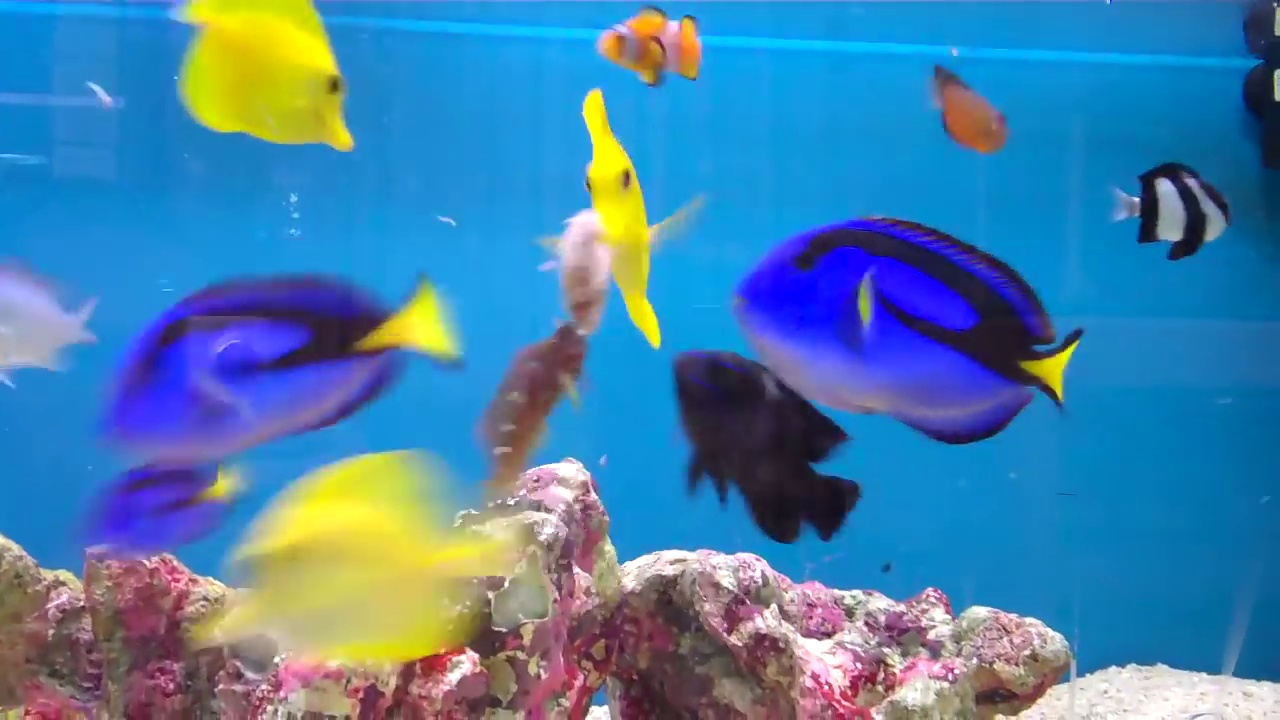blue tang surgeonfish: (725, 189, 1093, 470), (85, 222, 458, 456), (76, 458, 267, 578)
saddle butterfly fish: (184, 420, 520, 687), (161, 0, 361, 163), (564, 68, 673, 356)
